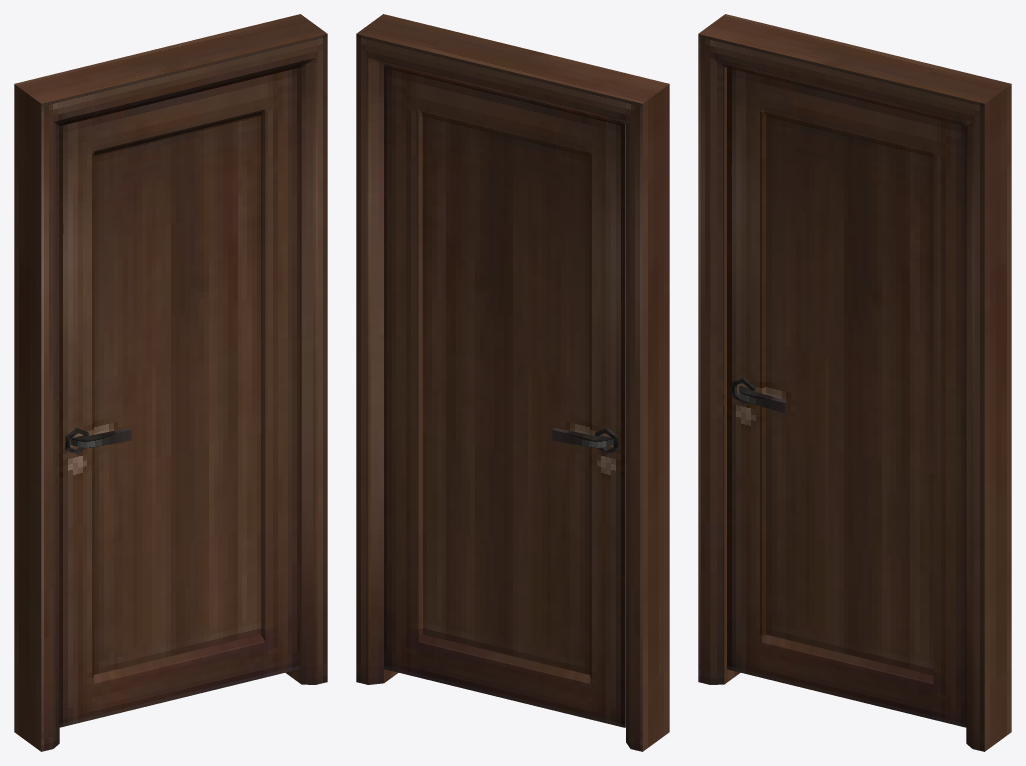
The model's file is door_wooden.glb.
3 views of the same model, side by side, from view 1: azimuth 30°, elevation 25°; view 2: azimuth 150°, elevation 25°; view 3: azimuth 330°, elevation 25° (orthographic).
Parts seen in each view (by area): view 1: door_wooden; view 2: door_wooden; view 3: door_wooden.
Part boxes in pixels (bbox=[...]): door_wooden: bbox=[14, 14, 327, 751]; door_wooden: bbox=[356, 14, 669, 751]; door_wooden: bbox=[698, 14, 1011, 751].
Size of the model in its own units: 0.897 by 1.94 by 0.1641.
Materials: 1 (1 with a texture image).
